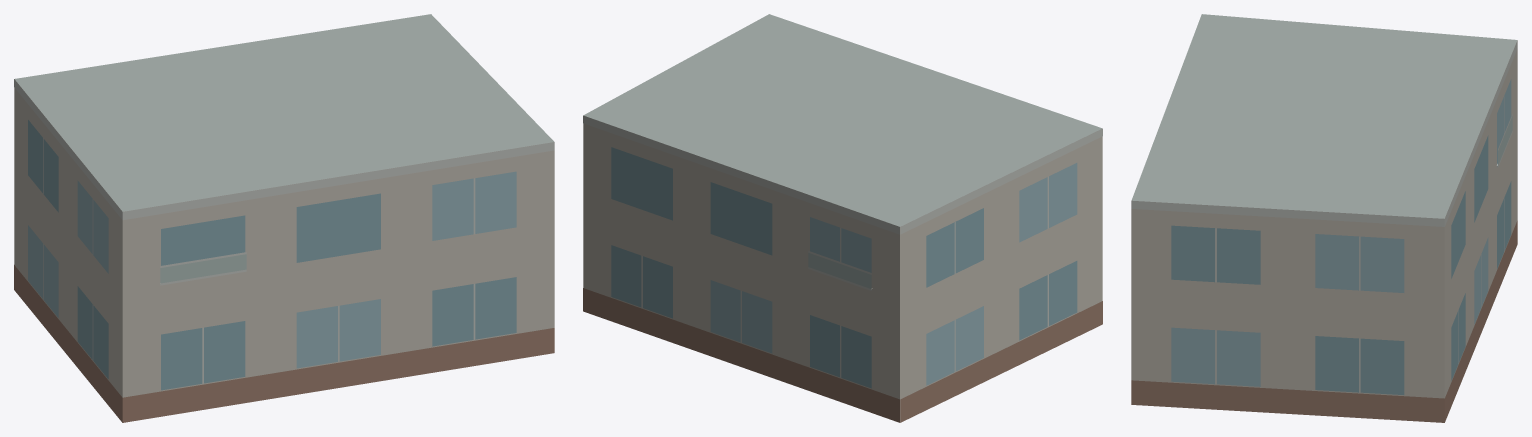
Rendered from survey-upis-32956949.glb.
The picture shows the model from 3 angles, left to right: view 1: azimuth 30°, elevation 25°; view 2: azimuth 150°, elevation 25°; view 3: azimuth 270°, elevation 25°; orthographic projection. The views are drawn at different scales.
Parts seen in each view (by area): view 1: survey-upis-32956949.tmp; view 2: survey-upis-32956949.tmp; view 3: survey-upis-32956949.tmp.
Part boxes in pixels (x1,y1,x2,y2): survey-upis-32956949.tmp: (14,14,554,422); survey-upis-32956949.tmp: (583,14,1102,422); survey-upis-32956949.tmp: (1131,14,1517,422).
Bounding box in the file's own units: 13.14 × 6.1 × 10.48.
